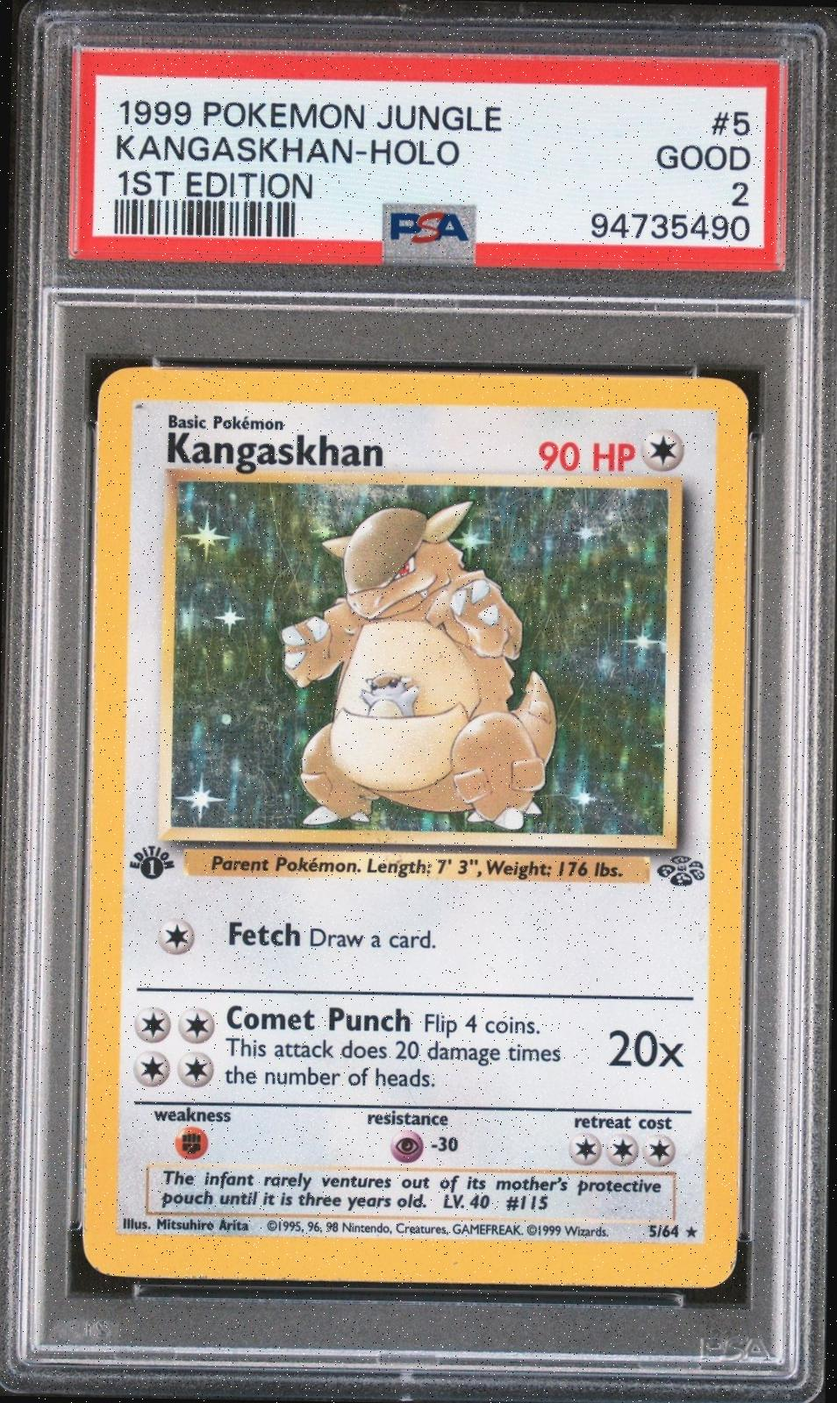card-2UtV: (81, 366, 749, 1289)
